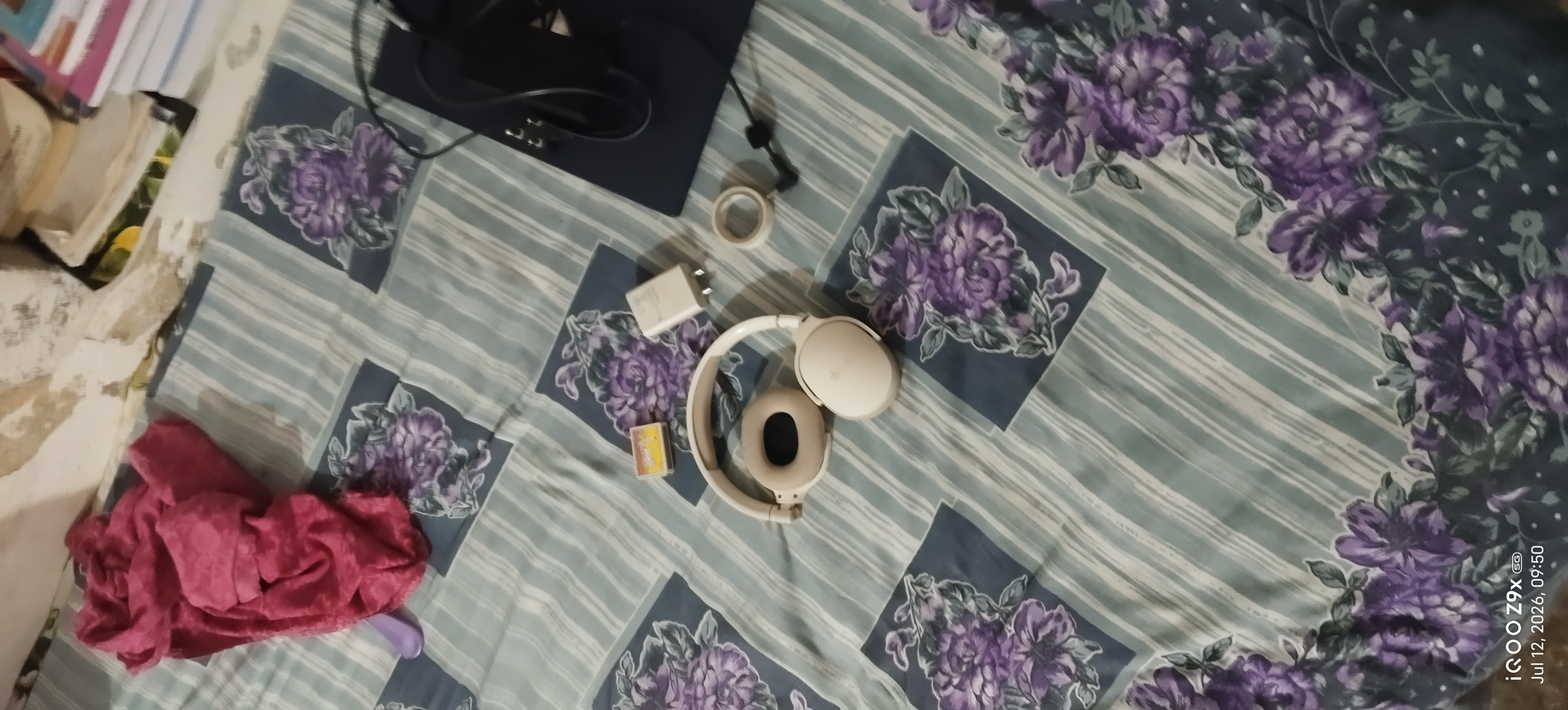charger: (620, 256, 717, 345)
matchbox: (625, 416, 681, 489)
tape_roll: (703, 177, 777, 257)
